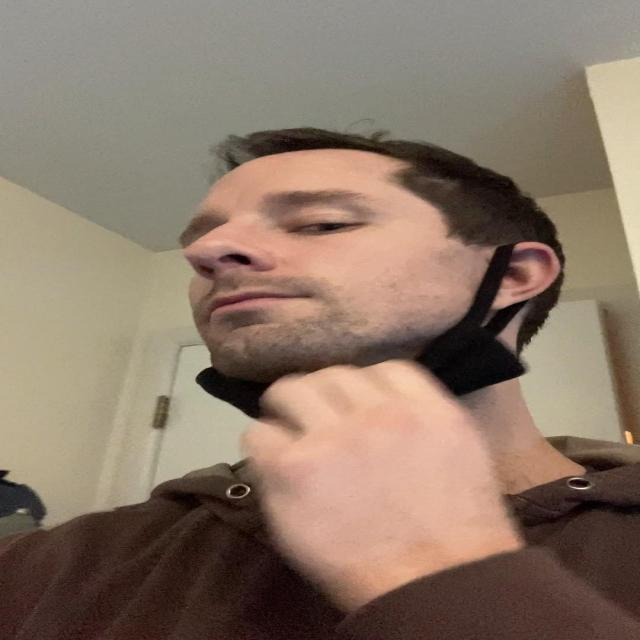no-helmet: (171, 143, 538, 408)
